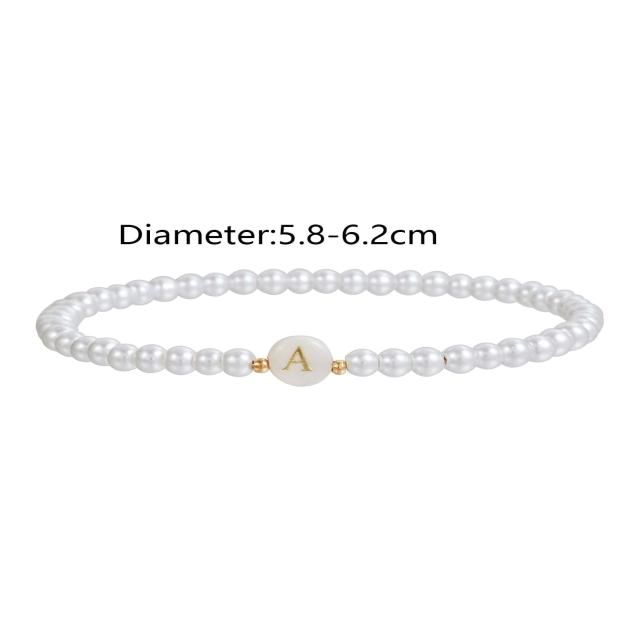bracelet: (10, 220, 640, 429)
